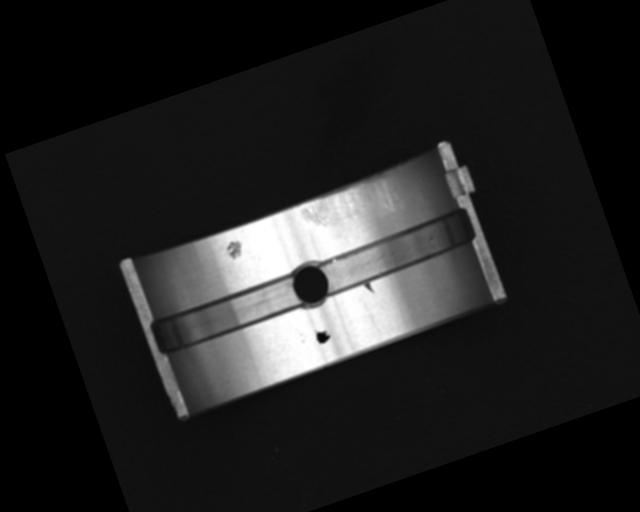blot: (313, 325, 333, 346)
bruise: (222, 237, 247, 263), (361, 281, 375, 296)
gap: (314, 205, 477, 297), (145, 270, 308, 359)
hole: (286, 255, 337, 312)
nick: (363, 300, 381, 335)
scratch: (296, 170, 404, 237)
